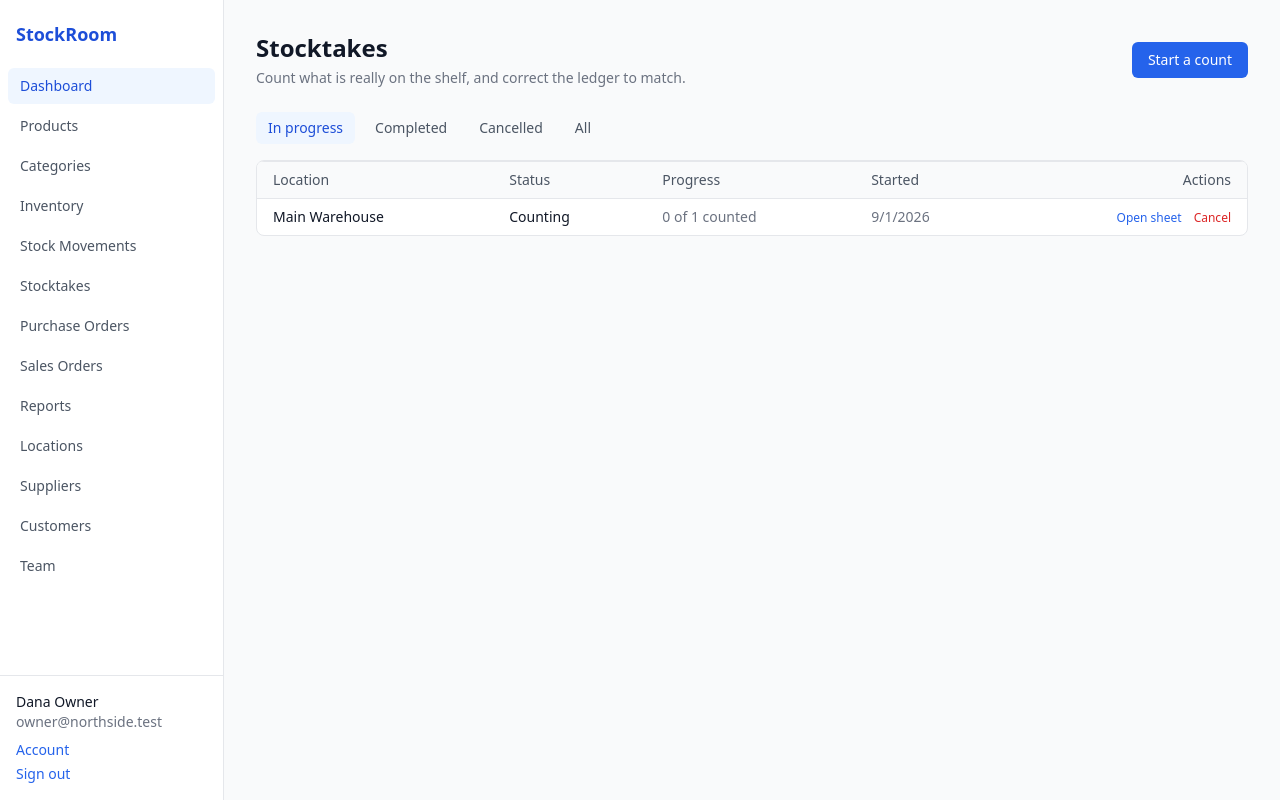
Test case: StocktakesPage starting a count › sends the location and scope, and opens the new sheet
Check: the text "Main Warehouse" is shown, box [257,198,493,235]
Click the button "Start a count" at (1190, 60), box [1132,42,1248,78]
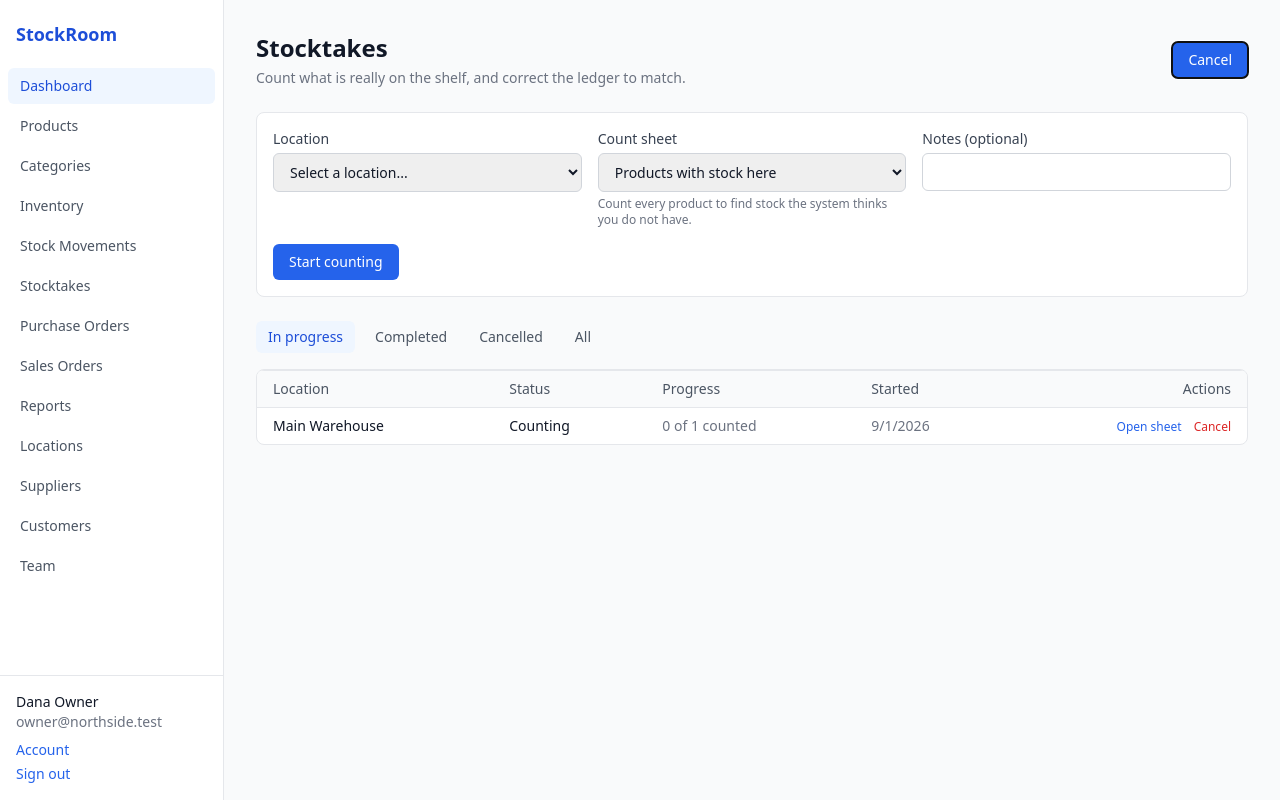
Select "Main Warehouse" in the dropdown labelled "Location" at (427, 172), box [273,153,582,192]
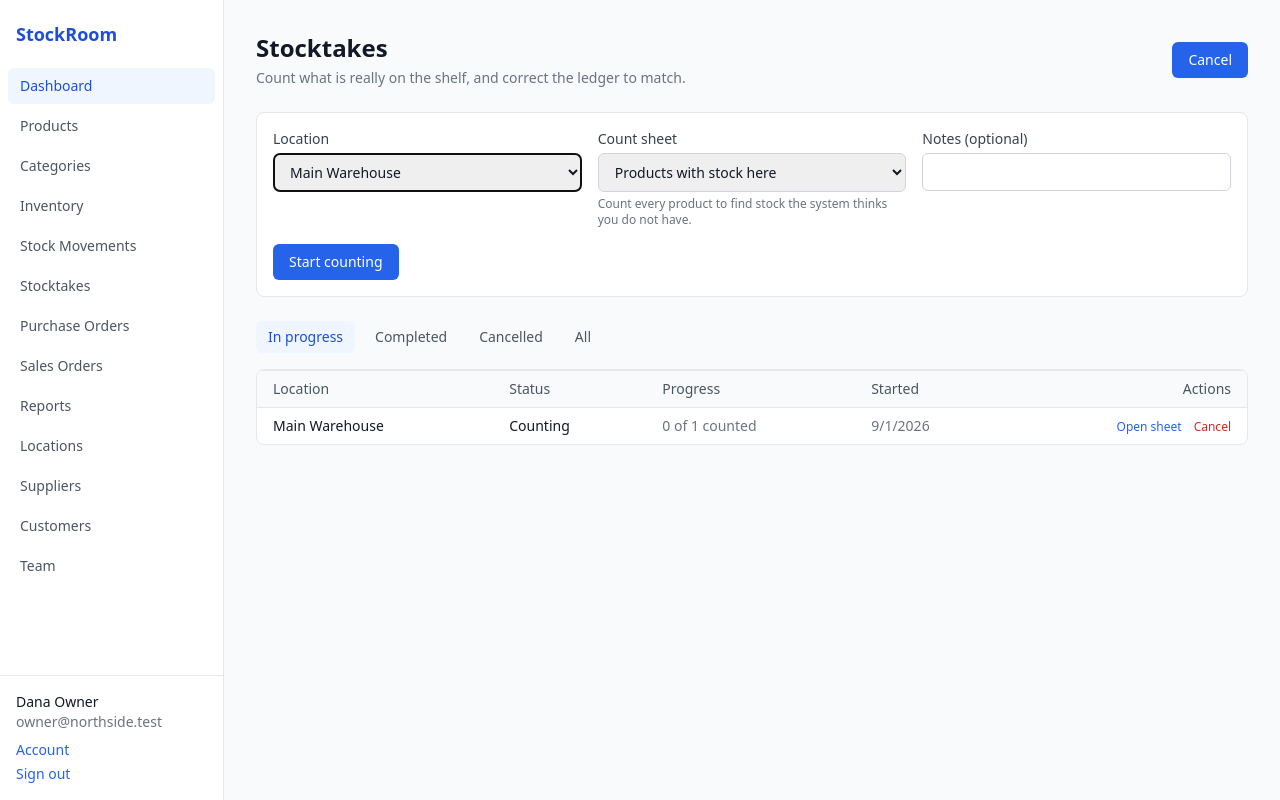
Select "Every active product" in the dropdown labelled "Count sheet" at (752, 172), box [598,153,906,192]
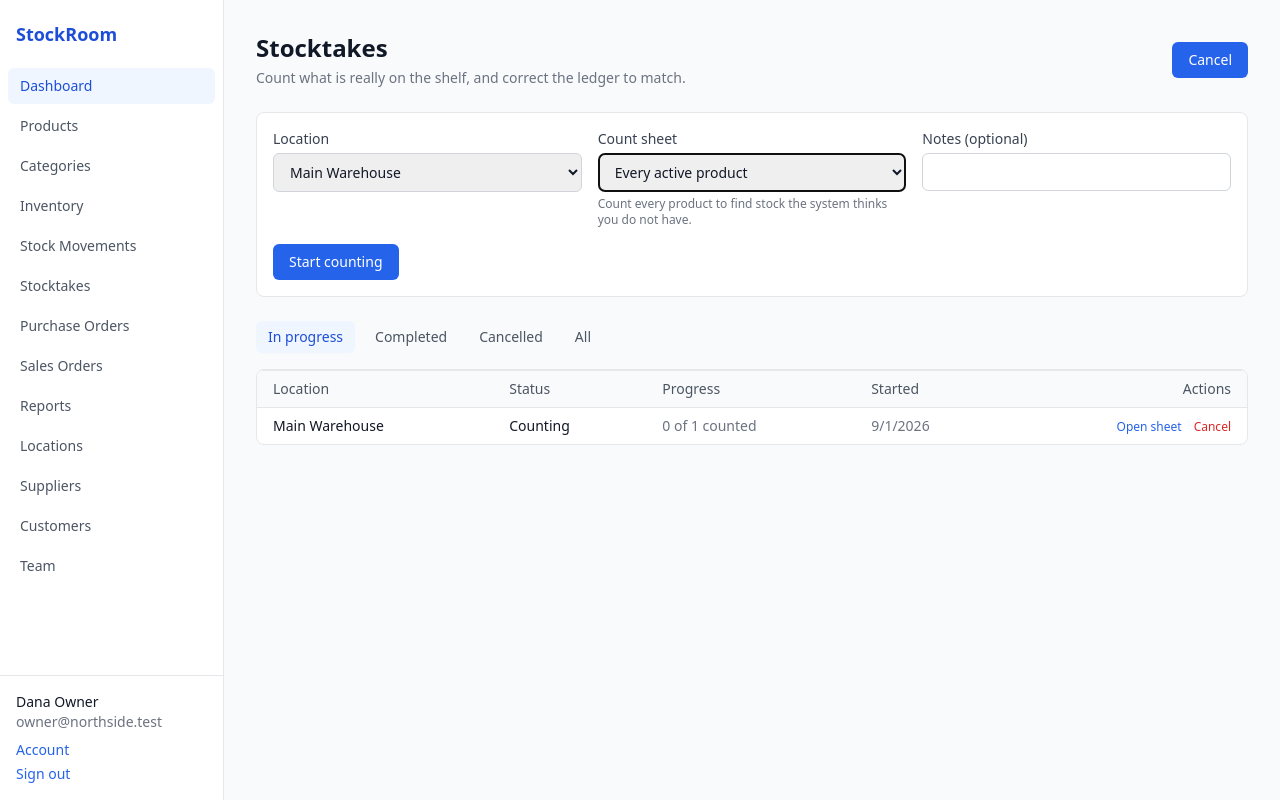
Click the button "Start counting" at (336, 262), box [273,244,398,280]
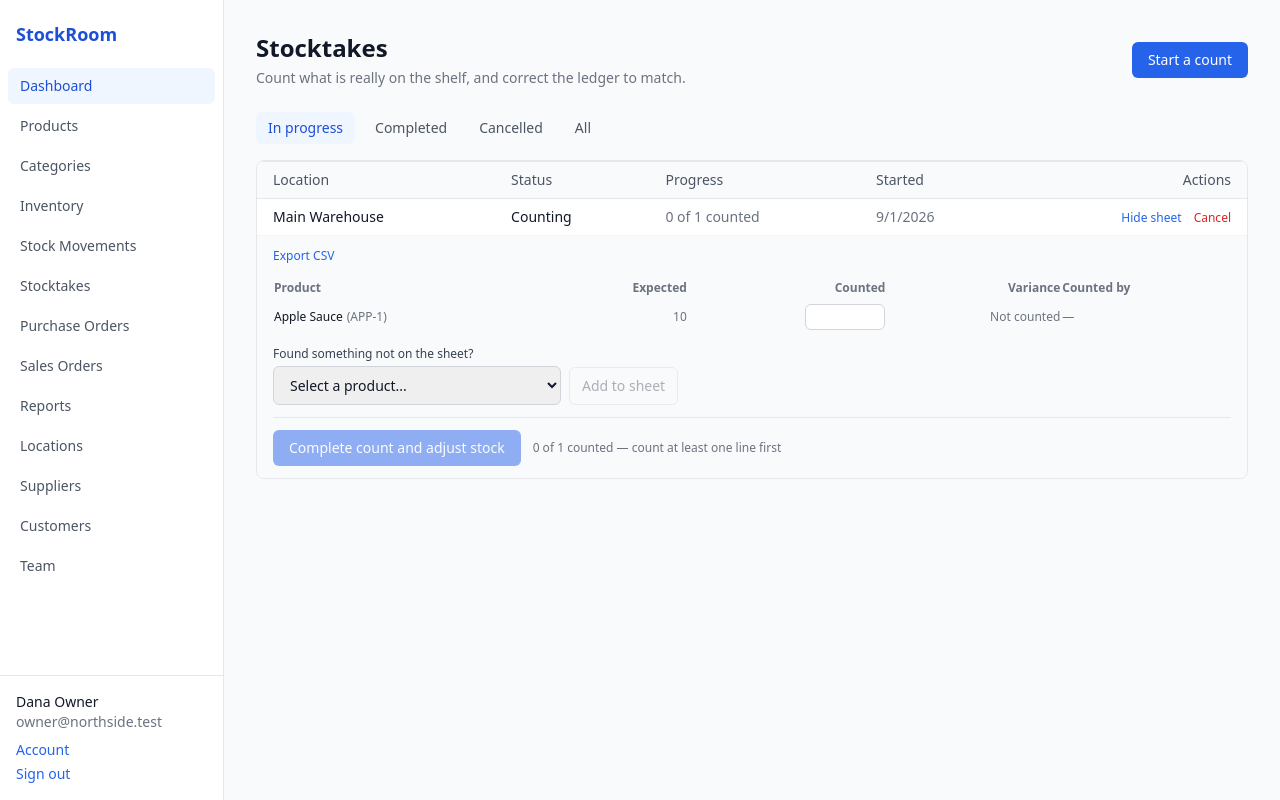
Check: the button "Hide sheet" is shown, box [1121,210,1182,226]
